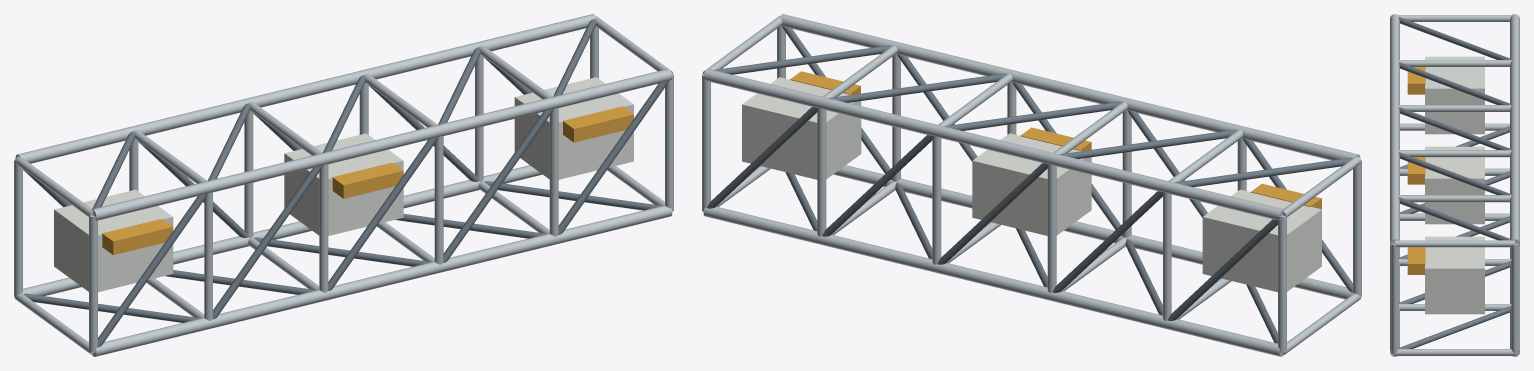
Rendered from iss_truss.s1.glb.
3 renders of one model, left to right at view 1: azimuth 30°, elevation 25°; view 2: azimuth 150°, elevation 25°; view 3: azimuth 270°, elevation 25°, orthographic. The views are drawn at different scales.
Parts seen in each view (by area): view 1: iss_truss.s1.mesh_Satin_aluminum, iss_truss.s1.mesh_Machined_steel, iss_truss.s1.mesh_Pale_thermal_blanket, iss_truss.s1.mesh_Gold_thermal_insulation; view 2: iss_truss.s1.mesh_Satin_aluminum, iss_truss.s1.mesh_Pale_thermal_blanket, iss_truss.s1.mesh_Machined_steel, iss_truss.s1.mesh_Gold_thermal_insulation; view 3: iss_truss.s1.mesh_Satin_aluminum, iss_truss.s1.mesh_Pale_thermal_blanket, iss_truss.s1.mesh_Machined_steel, iss_truss.s1.mesh_Gold_thermal_insulation.
Boxes of the visible parts, x1,y1,x2,y2 form: iss_truss.s1.mesh_Satin_aluminum: (14,14,673,356); iss_truss.s1.mesh_Machined_steel: (23,19,668,347); iss_truss.s1.mesh_Pale_thermal_blanket: (54,77,633,292); iss_truss.s1.mesh_Gold_thermal_insulation: (102,106,633,254); iss_truss.s1.mesh_Satin_aluminum: (702,14,1361,356); iss_truss.s1.mesh_Pale_thermal_blanket: (742,77,1321,292); iss_truss.s1.mesh_Machined_steel: (707,26,1353,343); iss_truss.s1.mesh_Gold_thermal_insulation: (790,71,1321,209); iss_truss.s1.mesh_Satin_aluminum: (1390,14,1519,356); iss_truss.s1.mesh_Pale_thermal_blanket: (1425,56,1484,314); iss_truss.s1.mesh_Machined_steel: (1398,17,1511,348); iss_truss.s1.mesh_Gold_thermal_insulation: (1407,67,1425,274).
Bounding box in the file's own units: 12.06 × 2.9 × 2.9.
